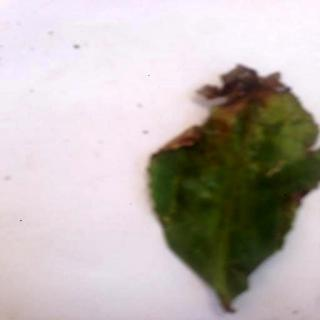Brown Blight: (146, 66, 320, 320)
